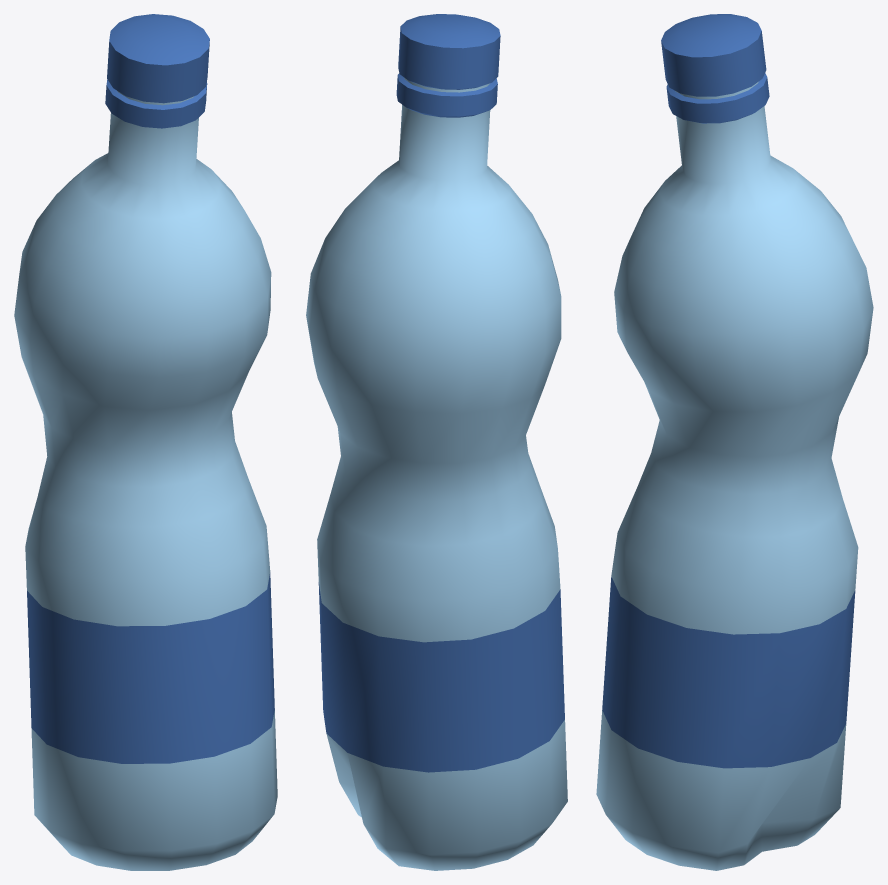
File: plastic_bottle5.fbx
3 renders of one model, left to right at view 1: azimuth 30°, elevation 25°; view 2: azimuth 150°, elevation 25°; view 3: azimuth 270°, elevation 25°, orthographic.
Parts seen in each view (by area): view 1: Cylinder.002; view 2: Cylinder.002; view 3: Cylinder.002.
Boxes of the visible parts, x1,y1,x2,y2 form: Cylinder.002: (14,14,277,870); Cylinder.002: (306,14,567,870); Cylinder.002: (596,14,873,870).
Bounding box in the file's own units: 1.42 × 1.53 × 4.91.
